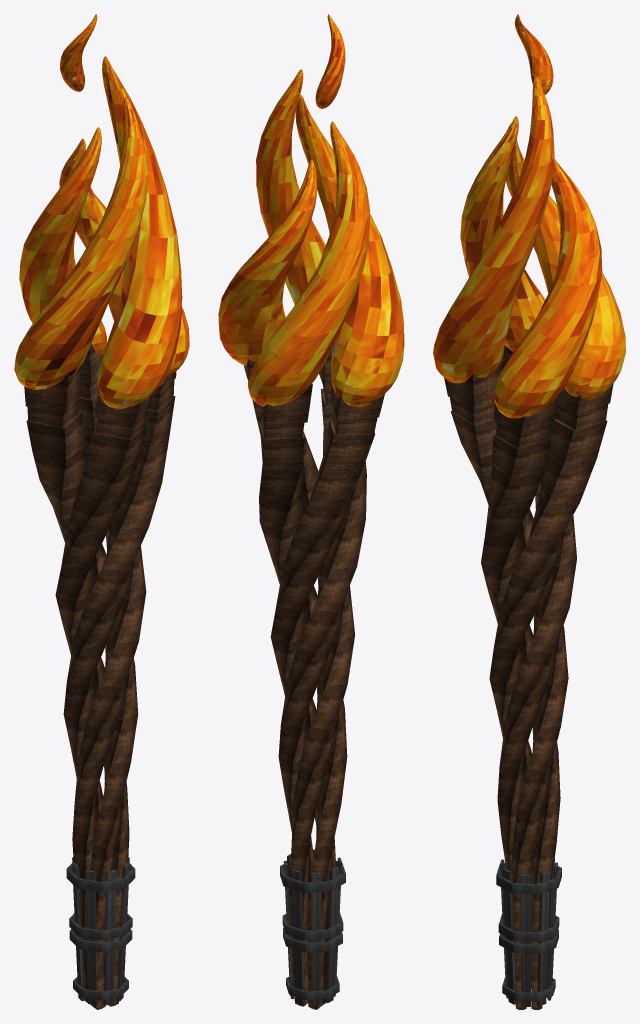
Rendered from Antorcha.fbx.
The picture shows the model from 3 angles, left to right: view 1: azimuth 30°, elevation 25°; view 2: azimuth 150°, elevation 25°; view 3: azimuth 270°, elevation 25°; orthographic projection.
Parts seen in each view (by area): view 1: Plane.006, Sphere.001_Sphere.022, Plane.003_Plane.014; view 2: Plane.006, Sphere.001_Sphere.022, Plane.003_Plane.014; view 3: Plane.006, Sphere.001_Sphere.022, Plane.003_Plane.014.
Boxes of the visible parts, x1,y1,x2,y2 form: Plane.006: (24,343,176,1009); Sphere.001_Sphere.022: (14,14,189,408); Plane.003_Plane.014: (66,857,135,1005); Plane.006: (243,349,384,1009); Sphere.001_Sphere.022: (218,14,404,406); Plane.003_Plane.014: (280,849,345,1005); Plane.006: (444,346,613,1009); Sphere.001_Sphere.022: (433,14,625,418); Plane.003_Plane.014: (496,858,561,1006).
Size of the model in its own units: 273 by 1530 by 271.
